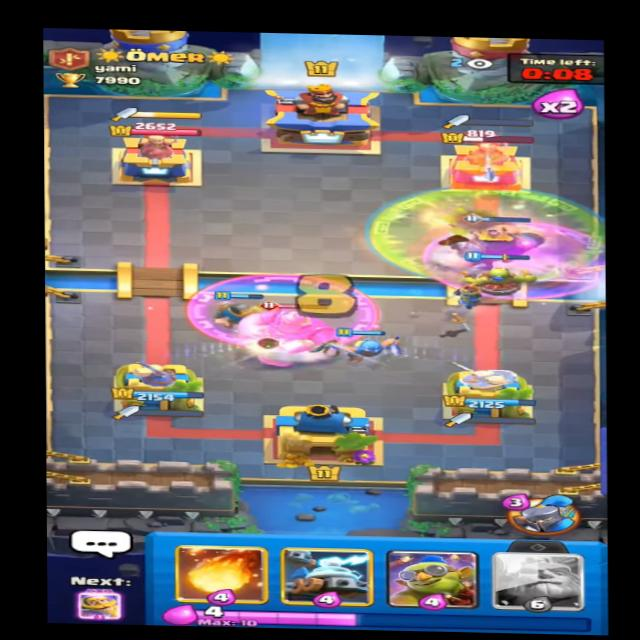evo-royal-giant: (229, 300, 358, 362)
rage: (193, 274, 383, 354)
